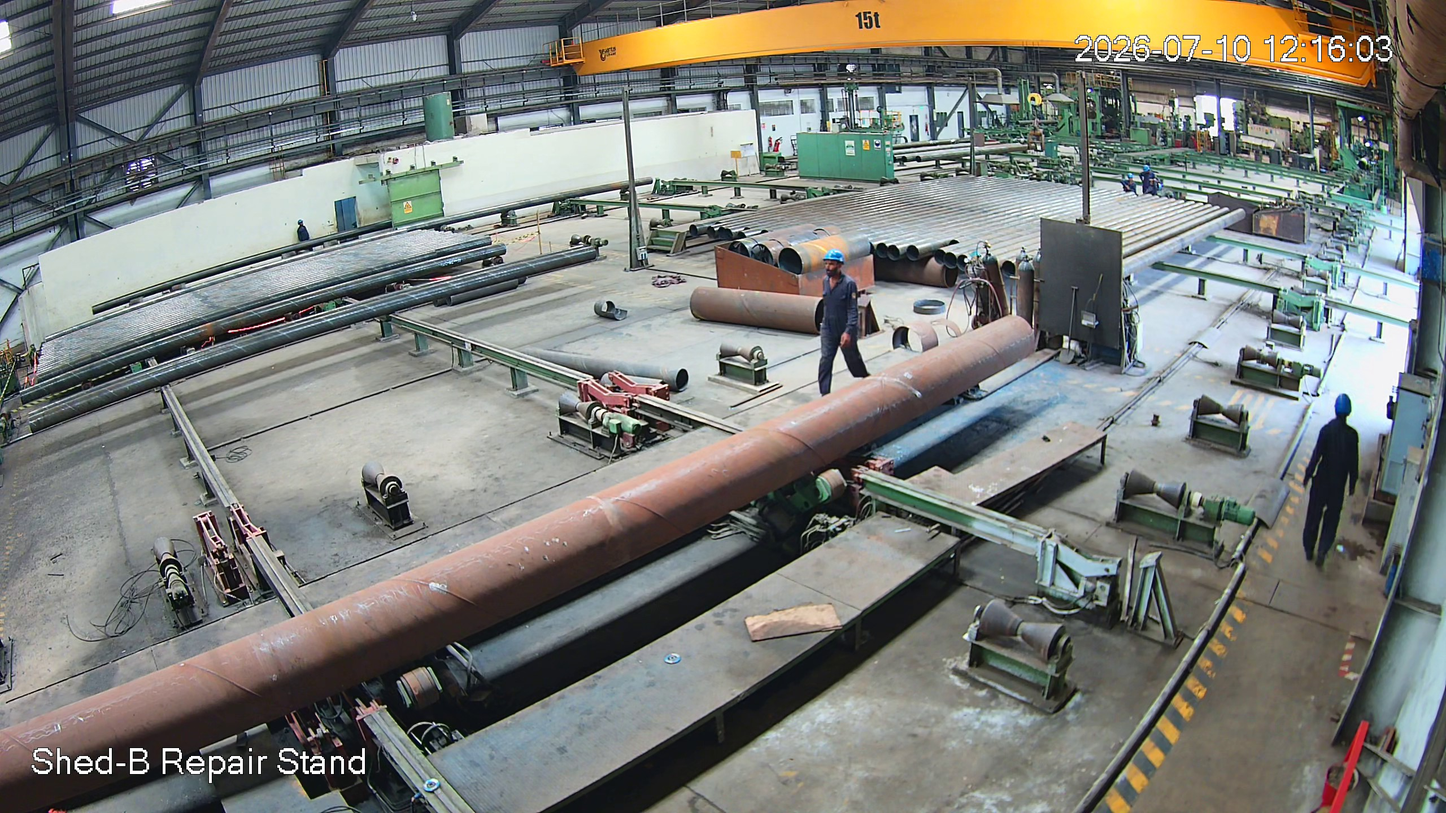Helmet: (818, 243, 859, 287), (1329, 388, 1362, 440)
Person: (1299, 392, 1369, 574), (807, 247, 851, 408)
